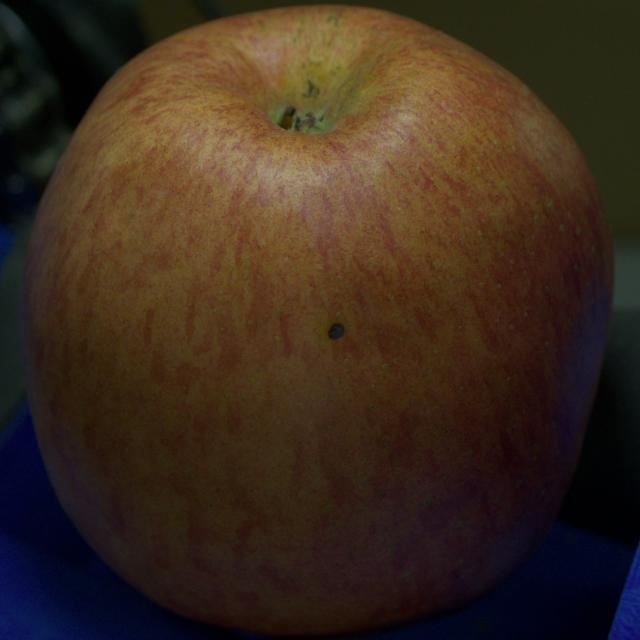apple: (21, 6, 612, 634)
pest: (328, 323, 344, 339)
